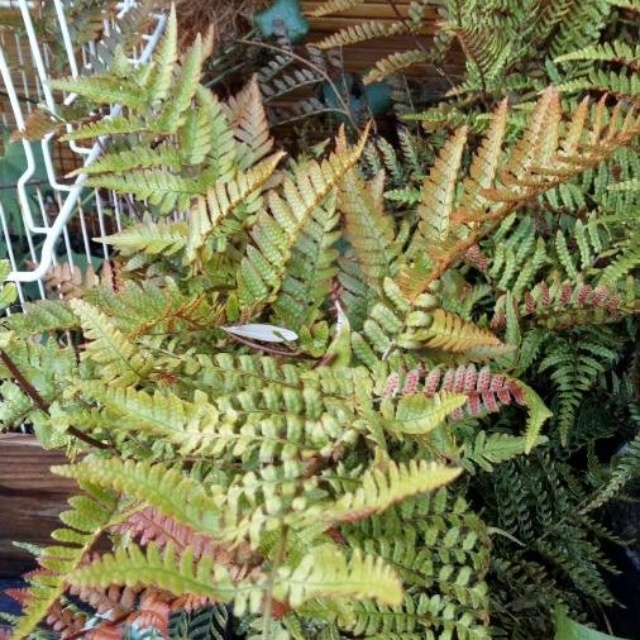obstacle: (73, 65, 506, 618)
